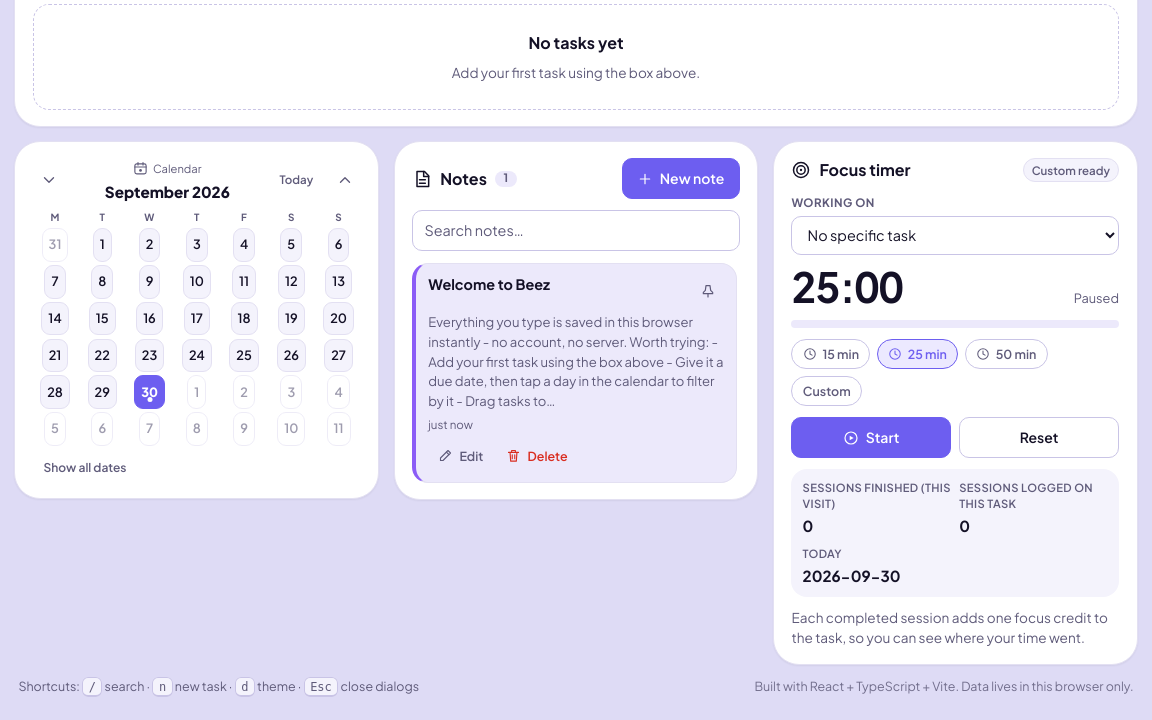
Test: App › sets a custom focus duration from hours and minutes
(page scrolled)
Click the button "Custom" at (827, 391), box [791,376,862,406]
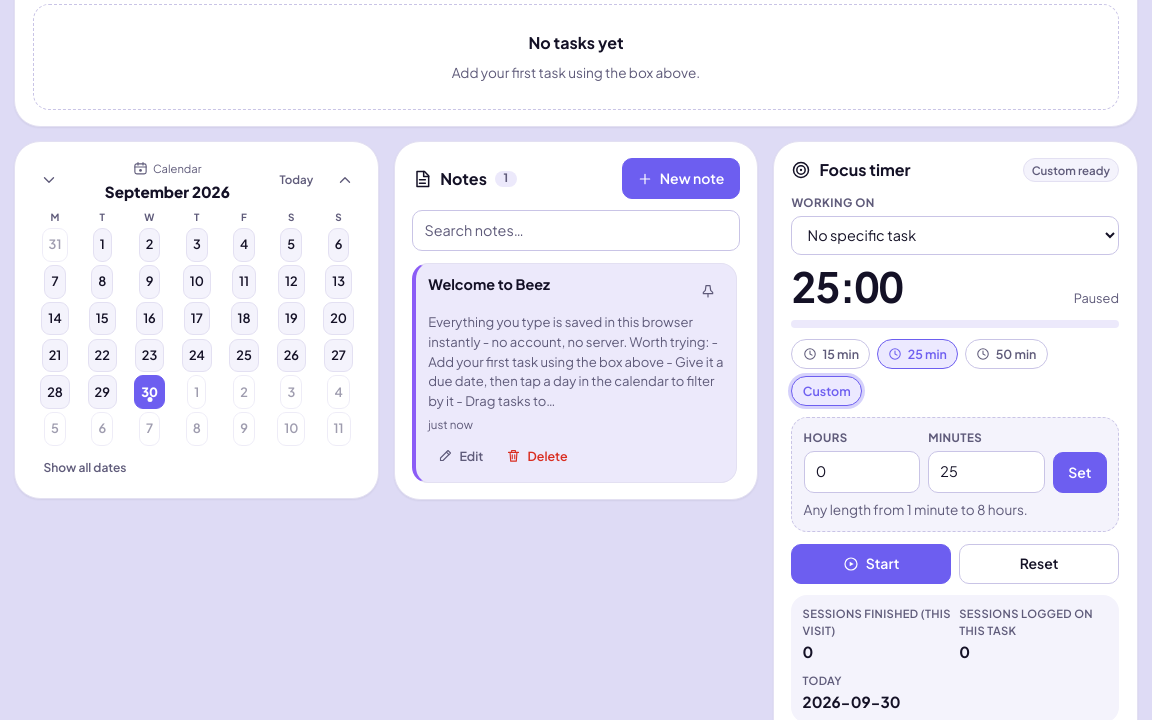
Note: The panel is conditional markup, so wait for it rather than assuming it is there.
Replace the text in the number field named "Custom hours" with "1" at (862, 472), box [804,452,920,493]
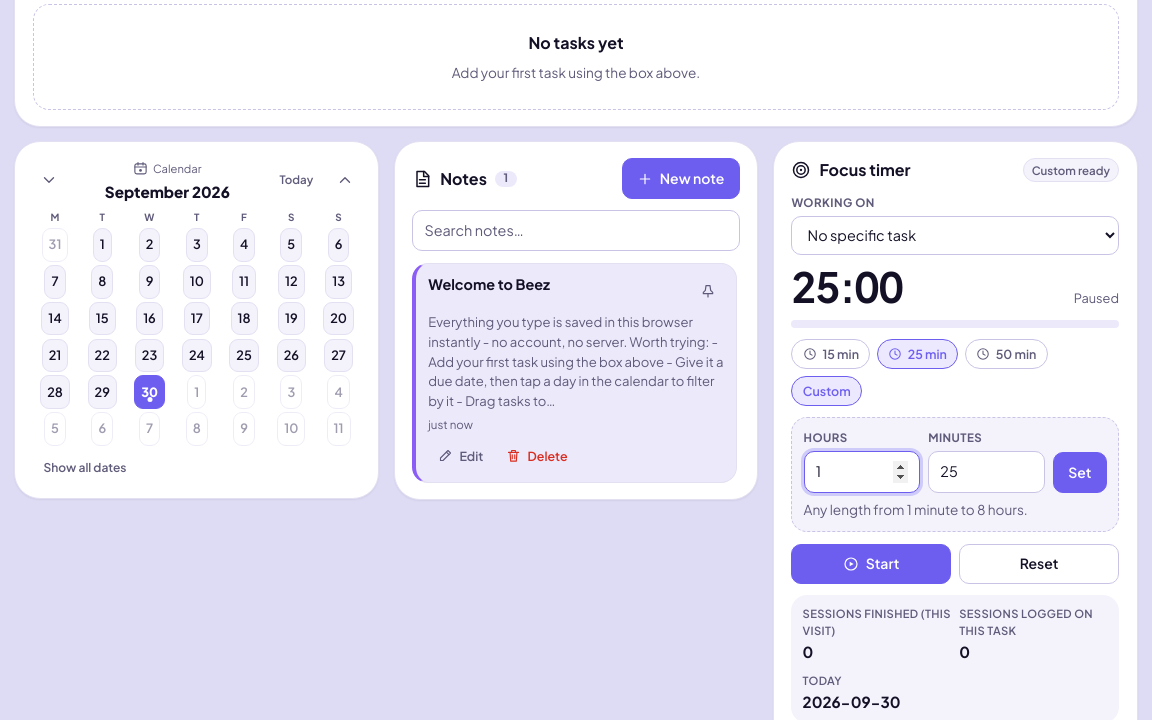
Replace the text in the number field named "Custom minutes" with "30" at (986, 472), box [928,452,1045,493]
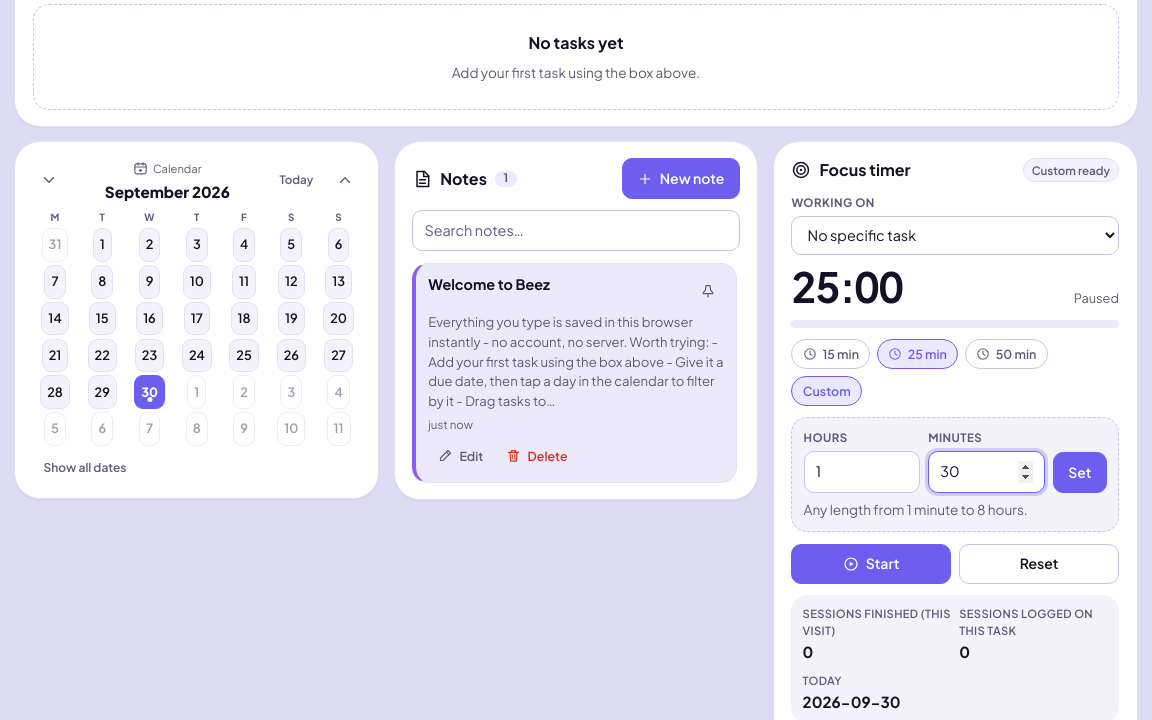
Click the button "Set" at (1080, 472), box [1053,452,1107,493]
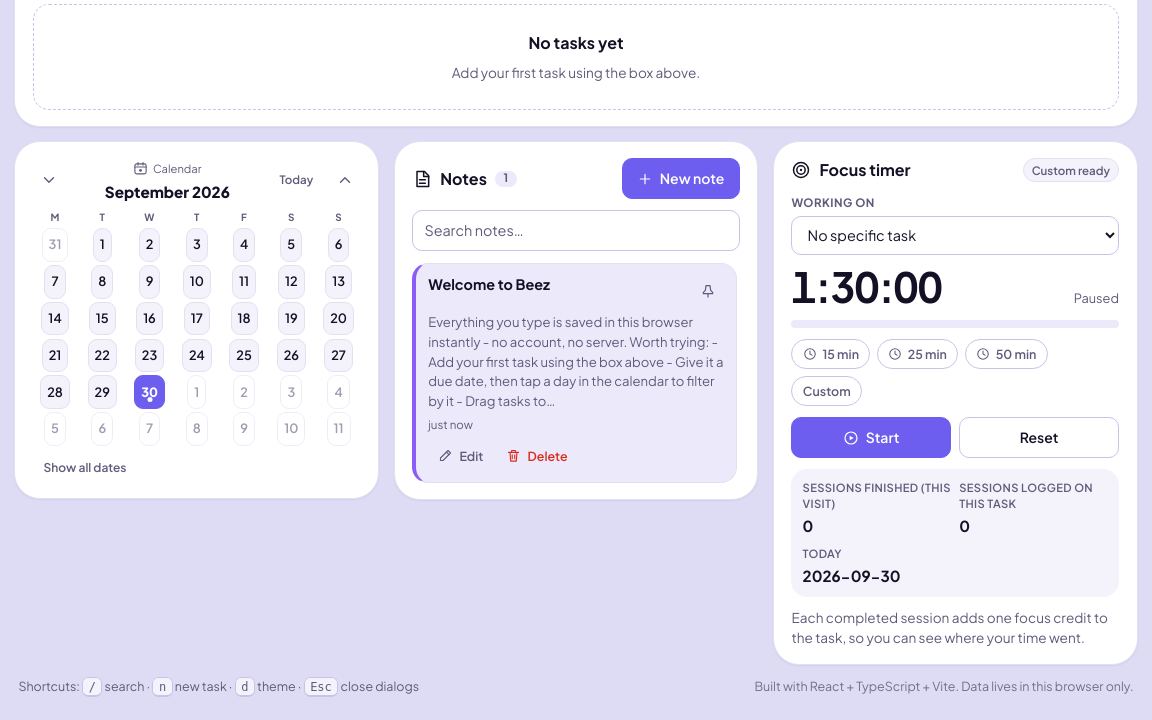
Expected: the text "1:30:00" is shown, [791,266,942,308]
